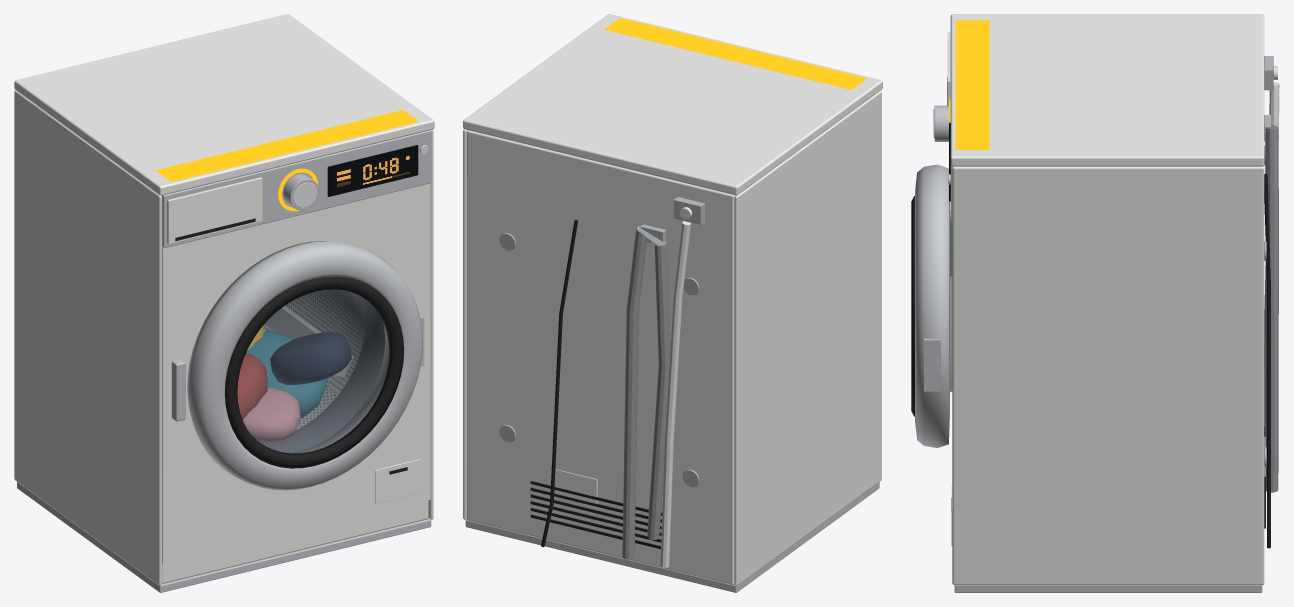
File: dryer.glb
3 renders of one model, left to right at view 1: azimuth 30°, elevation 25°; view 2: azimuth 150°, elevation 25°; view 3: azimuth 270°, elevation 25°, orthographic. The views are drawn at different scales.
Visible parts, largest first — view 1: dryer_cabinet, dryer_front, dryer_door_ring, dryer_door_glass, dryer_laundry, dryer_door_bezel, dryer_control_panel, dryer_drum_shell, dryer_drawer, dryer_gasket, dryer_status_bar, dryer_stacking_kit (+3 smaller); view 2: dryer_cabinet, dryer_rear, dryer_status_bar, dryer_stacking_kit; view 3: dryer_cabinet, dryer_door_ring, dryer_rear, dryer_status_bar, dryer_stacking_kit, dryer_door_bezel, dryer_dial, dryer_door_glass.
Part boxes in pixels (x1=…): dryer_cabinet: x1=14, y1=14, x2=434, y2=585; dryer_front: x1=162, y1=183, x2=430, y2=564; dryer_door_ring: x1=187, y1=241, x2=424, y2=490; dryer_door_glass: x1=237, y1=289, x2=388, y2=453; dryer_laundry: x1=237, y1=326, x2=351, y2=442; dryer_door_bezel: x1=225, y1=276, x2=403, y2=468; dryer_control_panel: x1=162, y1=130, x2=431, y2=248; dryer_drum_shell: x1=263, y1=289, x2=365, y2=429; dryer_drawer: x1=167, y1=177, x2=262, y2=244; dryer_gasket: x1=258, y1=298, x2=384, y2=452; dryer_status_bar: x1=156, y1=110, x2=418, y2=181; dryer_stacking_kit: x1=17, y1=482, x2=431, y2=592; dryer_cabinet: x1=463, y1=14, x2=882, y2=585; dryer_rear: x1=499, y1=197, x2=704, y2=567; dryer_status_bar: x1=604, y1=18, x2=867, y2=89; dryer_stacking_kit: x1=465, y1=482, x2=879, y2=592; dryer_cabinet: x1=950, y1=14, x2=1264, y2=585; dryer_door_ring: x1=915, y1=164, x2=949, y2=447; dryer_rear: x1=1264, y1=56, x2=1279, y2=548; dryer_status_bar: x1=955, y1=20, x2=989, y2=149; dryer_stacking_kit: x1=954, y1=585, x2=1262, y2=592; dryer_door_bezel: x1=911, y1=196, x2=914, y2=416; dryer_dial: x1=933, y1=105, x2=950, y2=201; dryer_door_glass: x1=950, y1=220, x2=952, y2=391.
Size of the model in its own units: 0.6 by 0.8503 by 0.6486.
22 materials, 2 textured.
